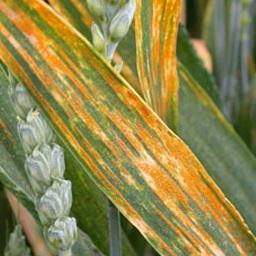Wheat: (12, 0, 254, 238), (0, 15, 148, 208)
